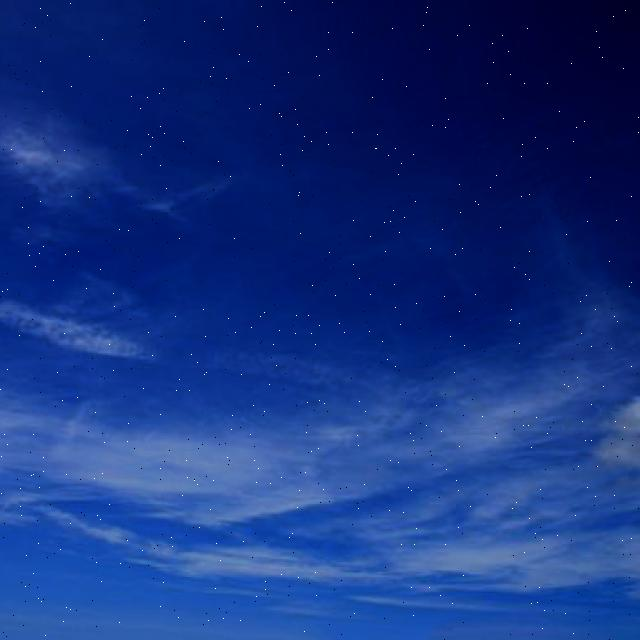Ci: (1, 94, 640, 634)
